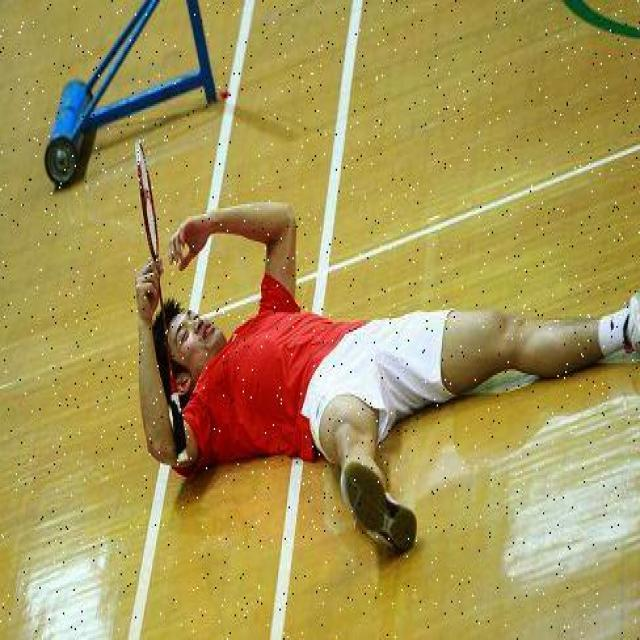fall: (144, 214, 611, 536)
